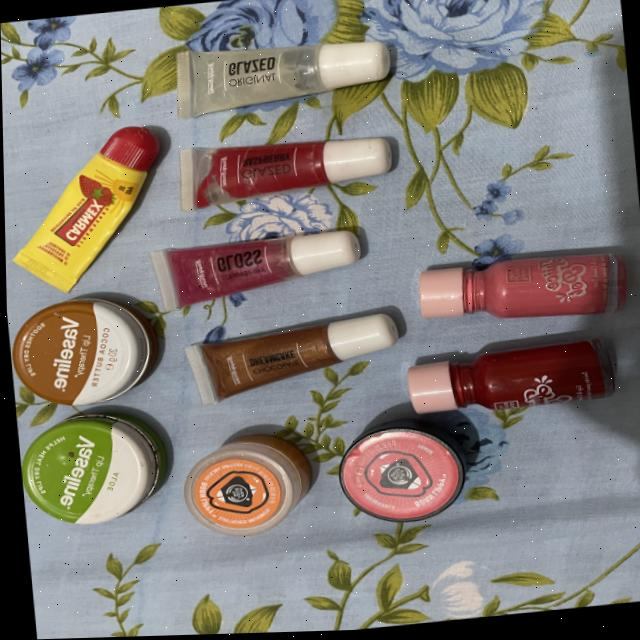Tint: (401, 238, 639, 347), (387, 334, 623, 433)
lip balm: (2, 114, 187, 295), (177, 291, 409, 410), (149, 203, 387, 317), (157, 23, 410, 129), (167, 123, 408, 222), (316, 408, 488, 540), (5, 279, 162, 419), (13, 399, 173, 536), (161, 425, 319, 549)
